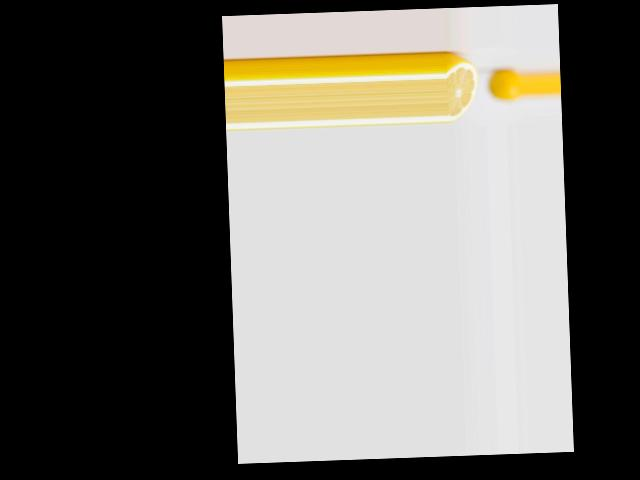lemon: (489, 71, 522, 99)
